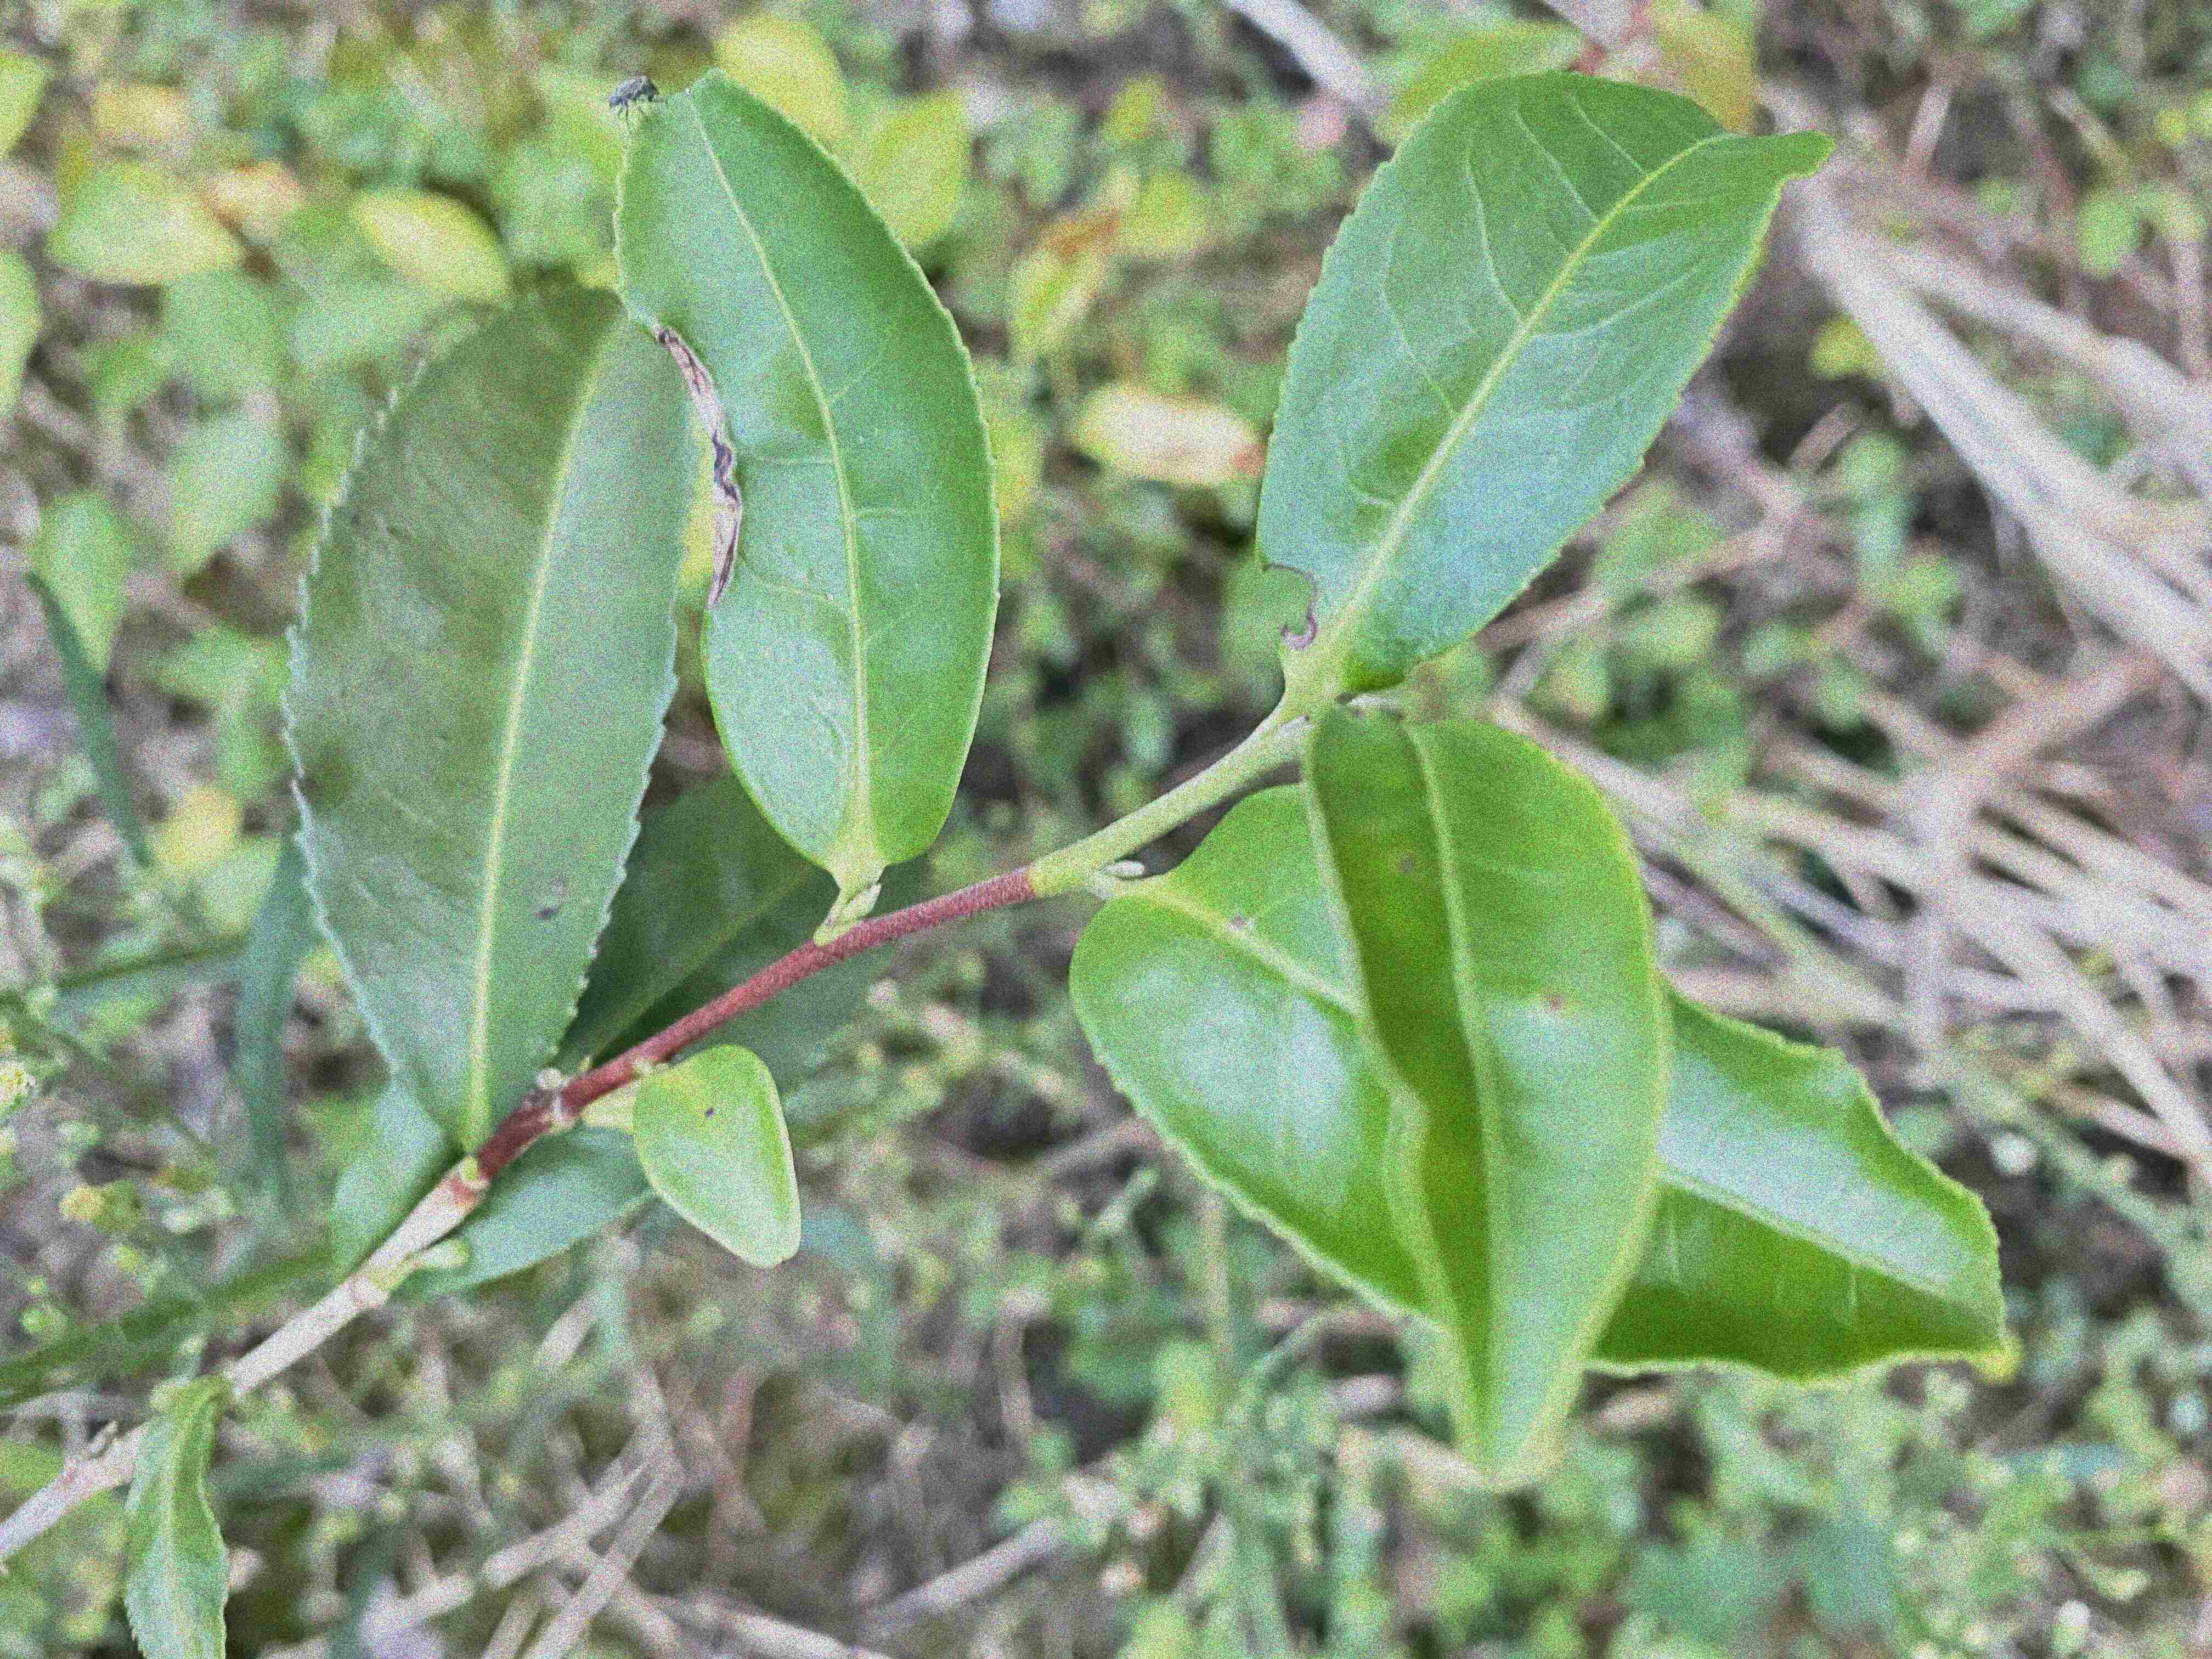chihuo_low: (1254, 70, 1834, 690)
tanju_high: (610, 68, 1000, 873)
tanju_low: (1064, 782, 2008, 1384), (1308, 706, 1672, 1481)
